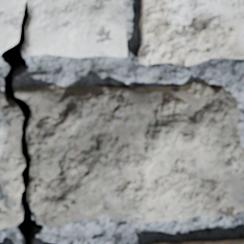brick: (139, 0, 243, 65), (176, 240, 243, 243)
broken_brick: (14, 82, 243, 229), (25, 0, 127, 57), (0, 90, 23, 229), (0, 0, 23, 51)
crack: (0, 0, 42, 243)
